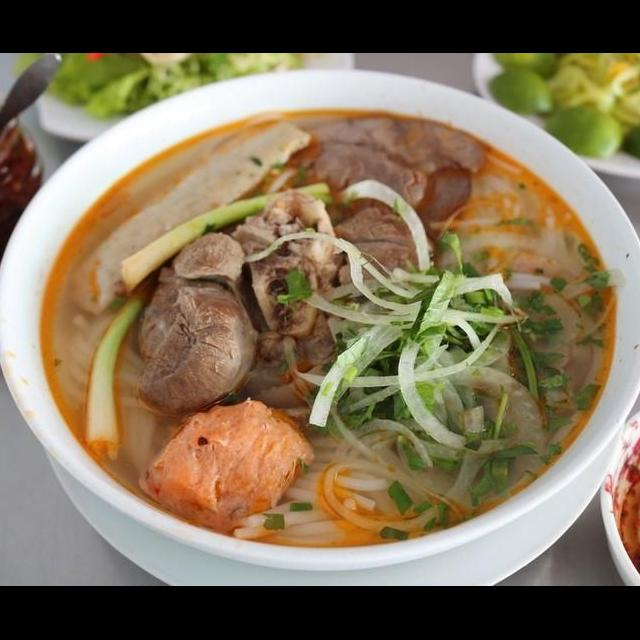bun: (227, 424, 442, 550), (56, 304, 172, 482)
bun bo: (27, 106, 610, 549)
thit bo: (125, 228, 264, 424), (278, 106, 494, 222), (324, 200, 438, 304)
